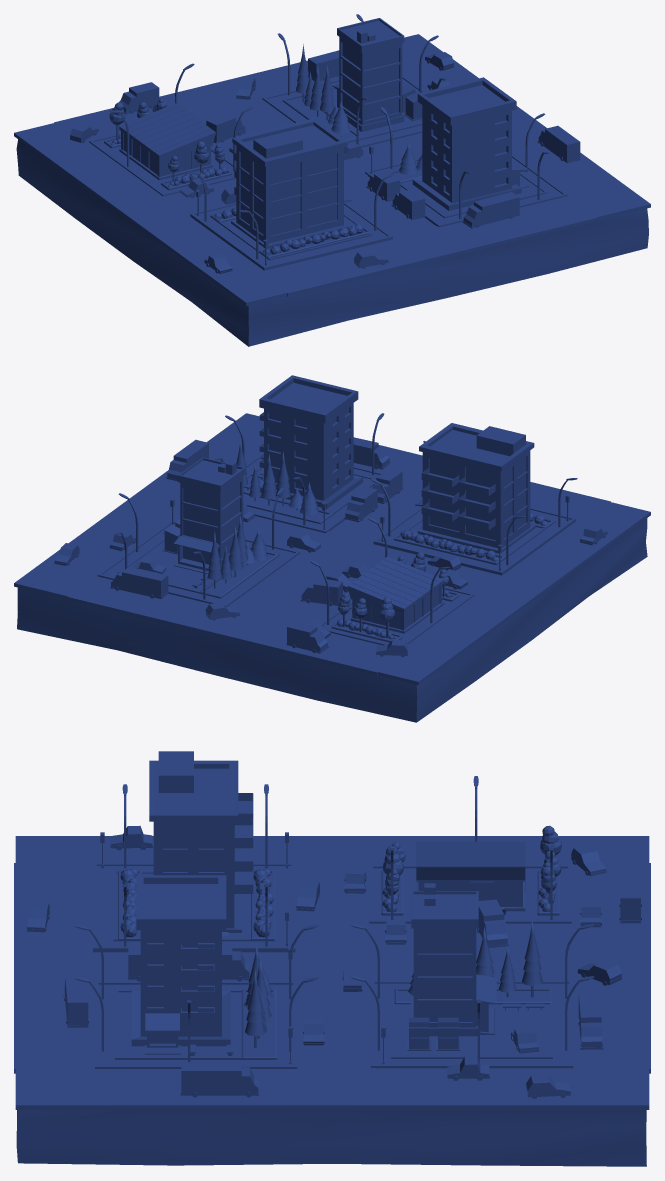
Rendered from spin.glb.
3 renders of one model, top to bottom at view 1: azimuth 30°, elevation 25°; view 2: azimuth 150°, elevation 25°; view 3: azimuth 270°, elevation 25°, orthographic. The views are drawn at different scales.
Parts seen in each view (by area): view 1: ROAD, Floor_6, House, House_2, House_3, Shop, Floor, Floor_4_4, Floor_2, Car_08_3, Floor_3, Car_08_4 (+10 smaller); view 2: ROAD, Floor_6, House, House_2, House_3, Shop, Floor, Floor_3, Floor_4_4, Floor_4_3, Car_08_5, Floor_2 (+13 smaller); view 3: ROAD, Floor_6, House_2, House, House_3, Shop, Floor_3, Floor_4_3, Floor, Floor_2, Floor_4_4, Floor_4_2 (+25 smaller).
Part boxes in pixels (x1,y1,x2,y2): ROAD: [14, 34, 650, 305]; Floor_6: [16, 139, 648, 346]; House: [231, 118, 351, 248]; House_2: [412, 77, 529, 210]; House_3: [332, 18, 404, 131]; Shop: [119, 103, 215, 180]; Floor: [190, 202, 392, 270]; Floor_4_4: [89, 133, 236, 196]; Floor_2: [365, 154, 567, 227]; Car_08_3: [462, 192, 519, 228]; Floor_3: [262, 75, 424, 147]; Car_08_4: [537, 125, 580, 163]; ROAD: [14, 413, 650, 685]; Floor_6: [17, 518, 647, 722]; House: [415, 423, 535, 553]; House_2: [259, 375, 363, 508]; House_3: [173, 457, 245, 573]; Shop: [347, 556, 444, 633]; Floor: [373, 506, 576, 575]; Floor_3: [97, 520, 300, 606]; Floor_4_4: [321, 586, 474, 645]; Floor_4_3: [117, 538, 279, 598]; Car_08_5: [110, 566, 168, 598]; Floor_2: [245, 452, 381, 533]; ROAD: [14, 836, 650, 1109]; Floor_6: [16, 1110, 646, 1166]; House_2: [131, 875, 230, 1054]; House: [146, 751, 253, 935]; House_3: [411, 883, 496, 1036]; Shop: [416, 841, 525, 911]; Floor_3: [371, 980, 573, 1068]; Floor_4_3: [391, 989, 552, 1058]; Floor: [93, 863, 295, 952]; Floor_2: [95, 981, 297, 1068]; Floor_4_4: [369, 865, 571, 923]; Floor_4_2: [115, 989, 276, 1059].
Bounding box in the file's own units: 10.12 × 3.44 × 10.12.
